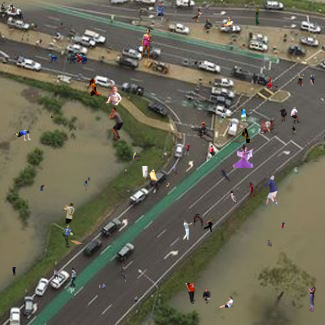Human: (230, 182, 256, 203), (185, 283, 211, 304), (262, 175, 279, 207), (258, 116, 288, 134), (60, 225, 83, 248), (232, 144, 254, 168), (53, 267, 77, 289), (191, 6, 213, 30), (184, 143, 217, 159), (168, 219, 193, 240), (123, 166, 158, 181), (48, 51, 88, 64), (187, 122, 213, 142), (75, 78, 102, 97), (138, 28, 153, 62), (109, 107, 124, 141), (194, 214, 216, 237), (103, 80, 122, 106), (228, 128, 255, 143), (279, 106, 301, 124), (221, 107, 246, 121), (168, 165, 190, 178), (62, 202, 75, 224), (220, 16, 236, 33), (212, 296, 234, 308), (307, 283, 316, 312), (297, 73, 315, 86), (14, 130, 31, 141), (265, 76, 278, 90), (1, 0, 13, 14), (11, 7, 24, 19), (156, 2, 165, 16), (253, 8, 260, 26), (221, 170, 232, 181), (120, 267, 127, 282), (291, 125, 300, 135), (84, 177, 90, 191), (7, 20, 13, 34), (99, 282, 107, 292), (133, 152, 140, 162), (266, 240, 272, 250), (40, 184, 47, 191), (134, 296, 139, 304), (194, 61, 202, 66), (281, 221, 285, 230), (12, 267, 16, 276), (228, 122, 233, 127), (166, 182, 170, 188), (51, 115, 56, 119), (292, 300, 295, 306), (188, 0, 190, 9), (311, 160, 320, 162)
